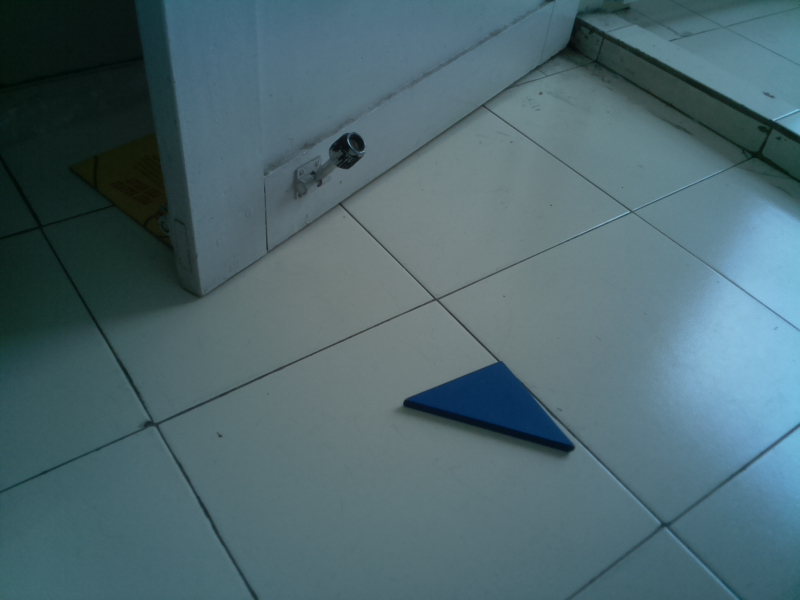Triangle: (397, 355, 580, 459)
